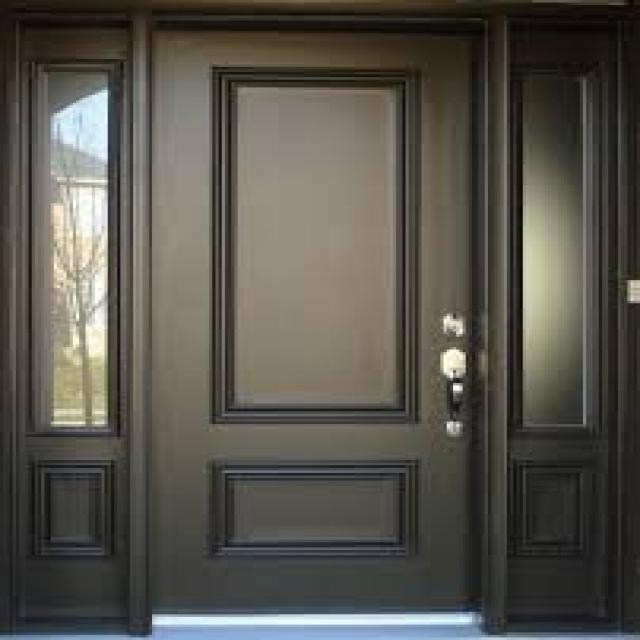Door: (146, 23, 488, 604)
